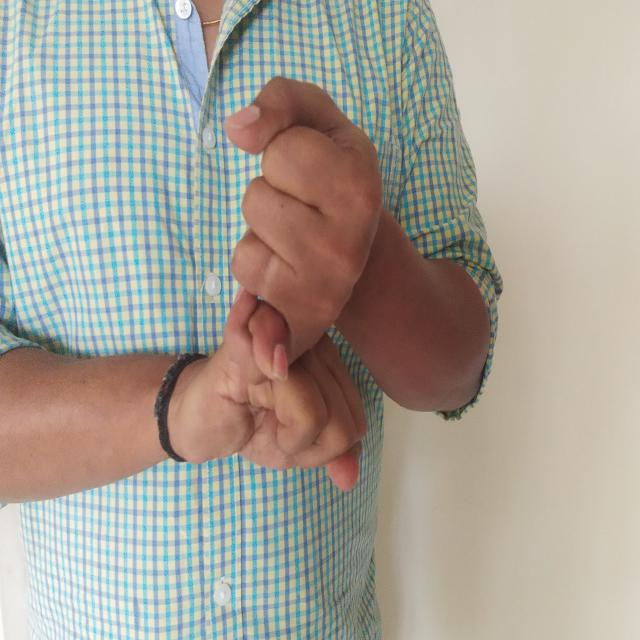S: (149, 70, 417, 499)
